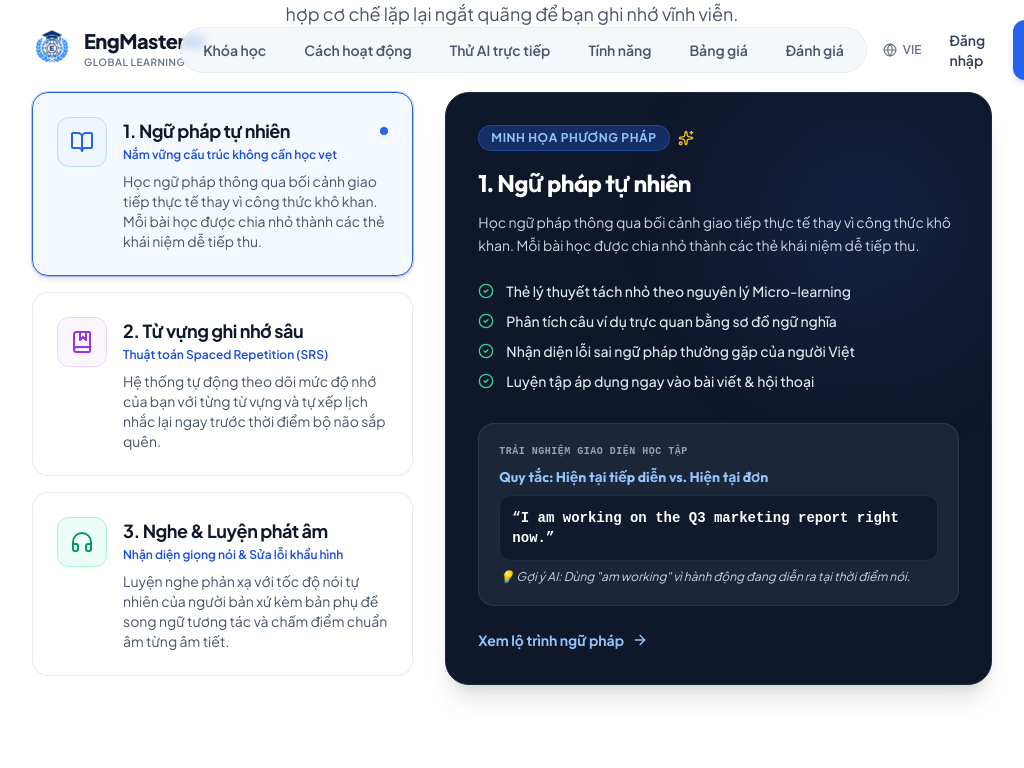
HomePage — the interactive parts actually respond › switches the skills panel when another skill tab is chosen
(page scrolled)
Expected: the panel shows "Quy tắc: Hiện tại tiếp diễn", top-left (499, 468), bottom-right (768, 486)
Click the tab "Từ vựng ghi nhớ sâu".
click(223, 384)  # box top-left (32, 292), bottom-right (413, 476)
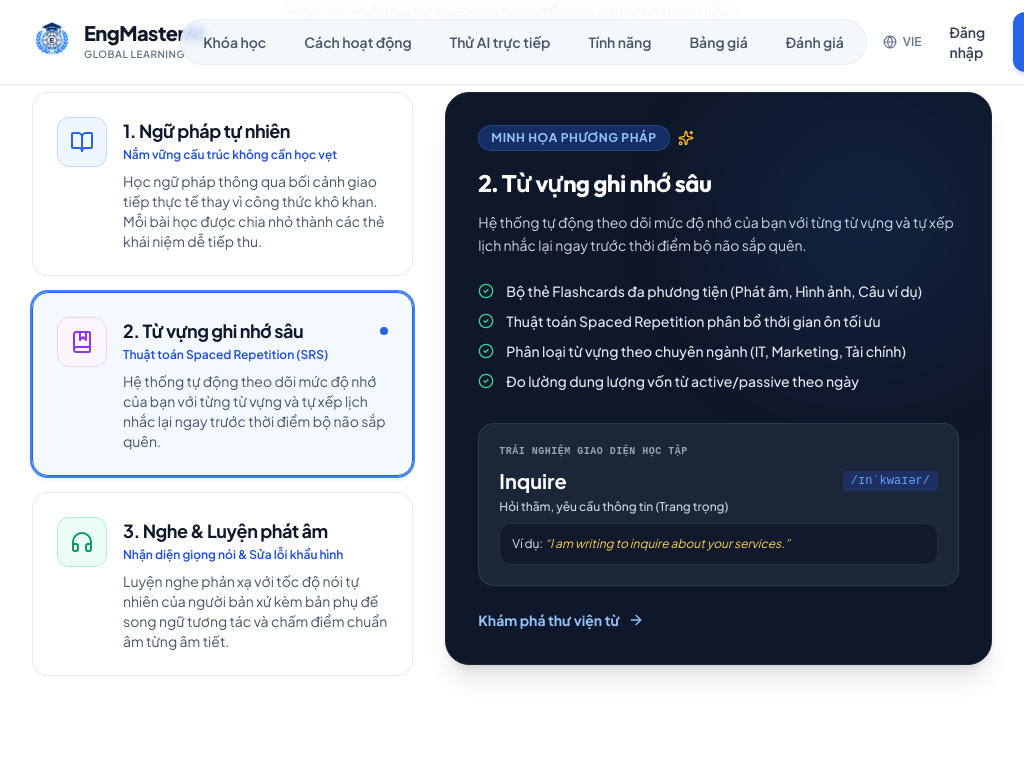
Expected: the text "/ɪnˈkwaɪər/" is shown, top-left (843, 471), bottom-right (938, 491)
Expected: the panel shows "Inquire", top-left (499, 468), bottom-right (567, 493)
